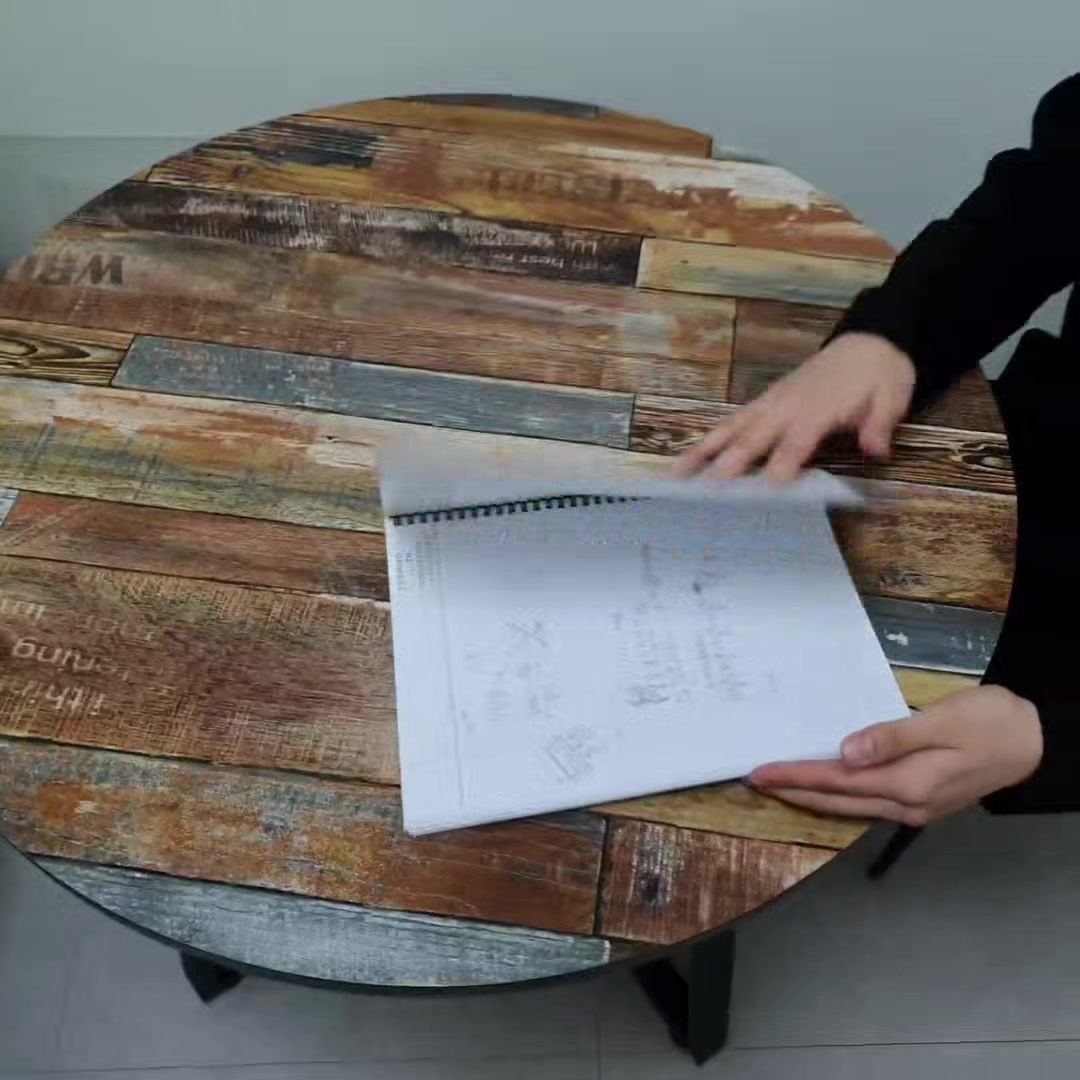book: (369, 414, 938, 843)
